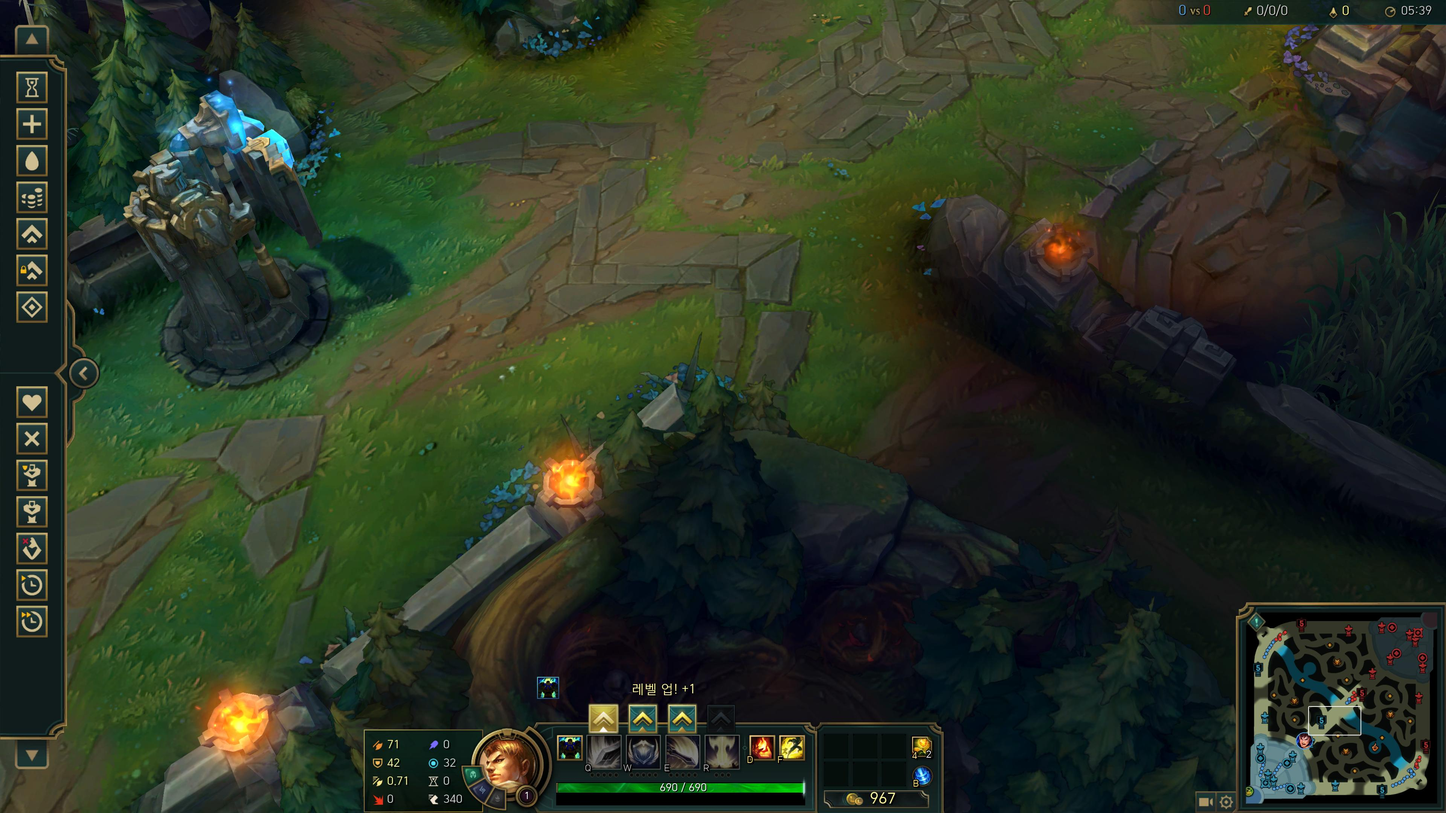ally-tower: (122, 89, 328, 387)
